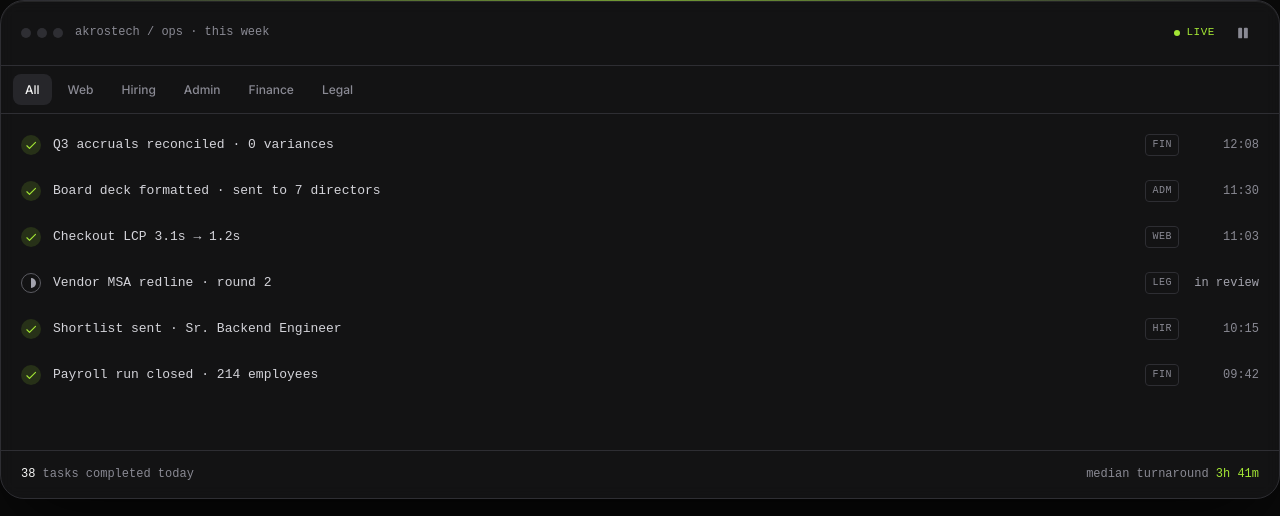
Test case: <OpsFeed /> › stops ticking when paused and resumes on demand
The image size is (1280, 516).
Click the button named "Pause live feed" at (1243, 33), box [1227, 17, 1259, 49]
Wait 10000 ms
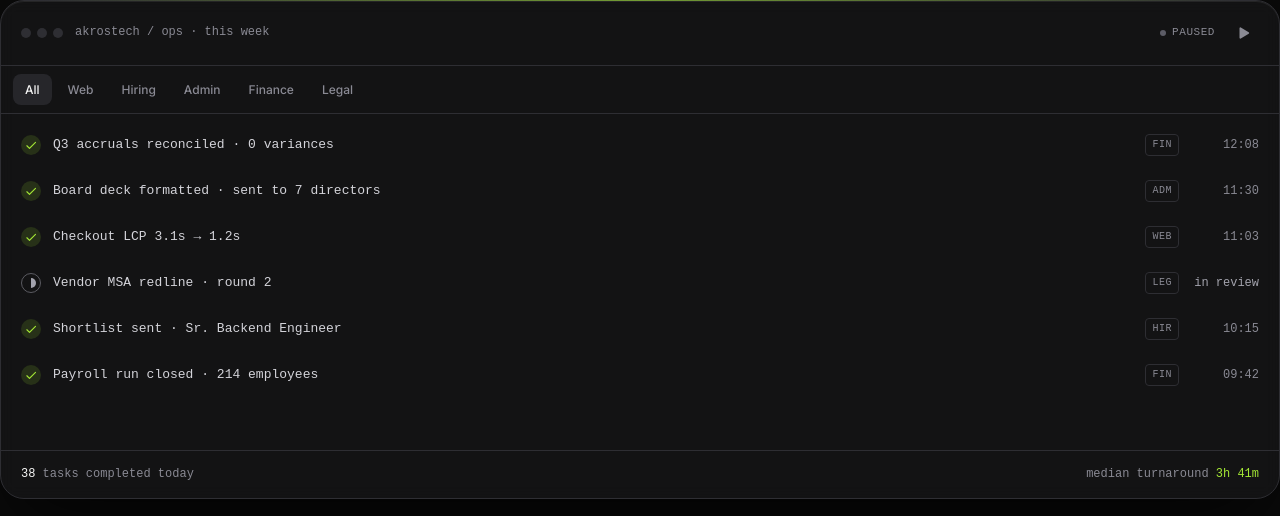
expect the text with test id "ops-feed-count" reads "38": met, box [21, 467, 35, 481]
expect the button named "Resume live feed" is pressed: met
Click the button named "Resume live feed" at (1243, 33), box [1227, 17, 1259, 49]
Wait 1000 ms
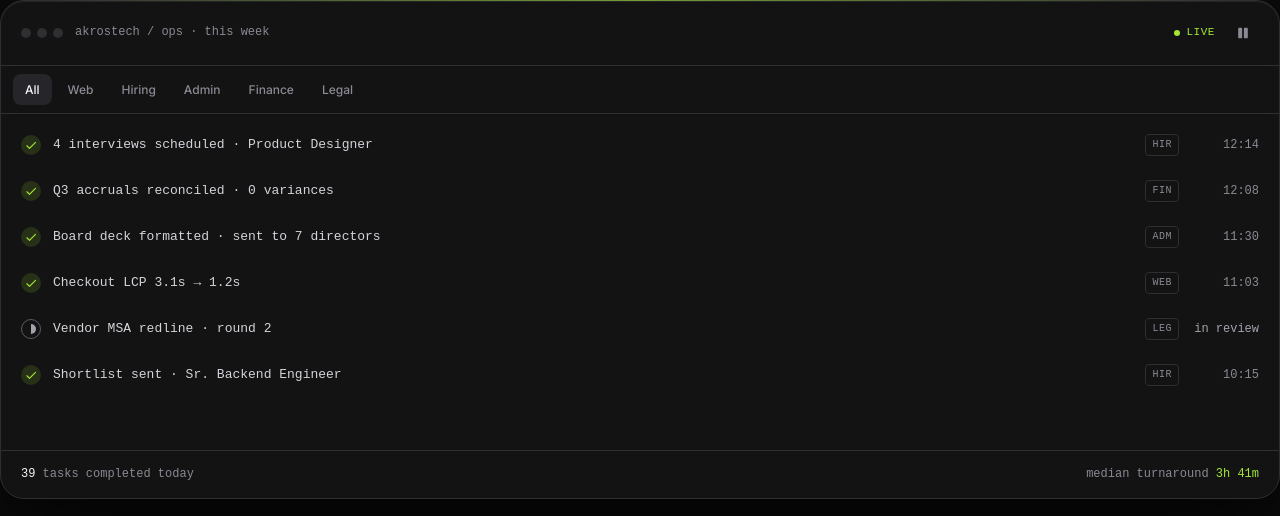
expect the text with test id "ops-feed-count" no longer shows "38": met, box [21, 467, 35, 481]
